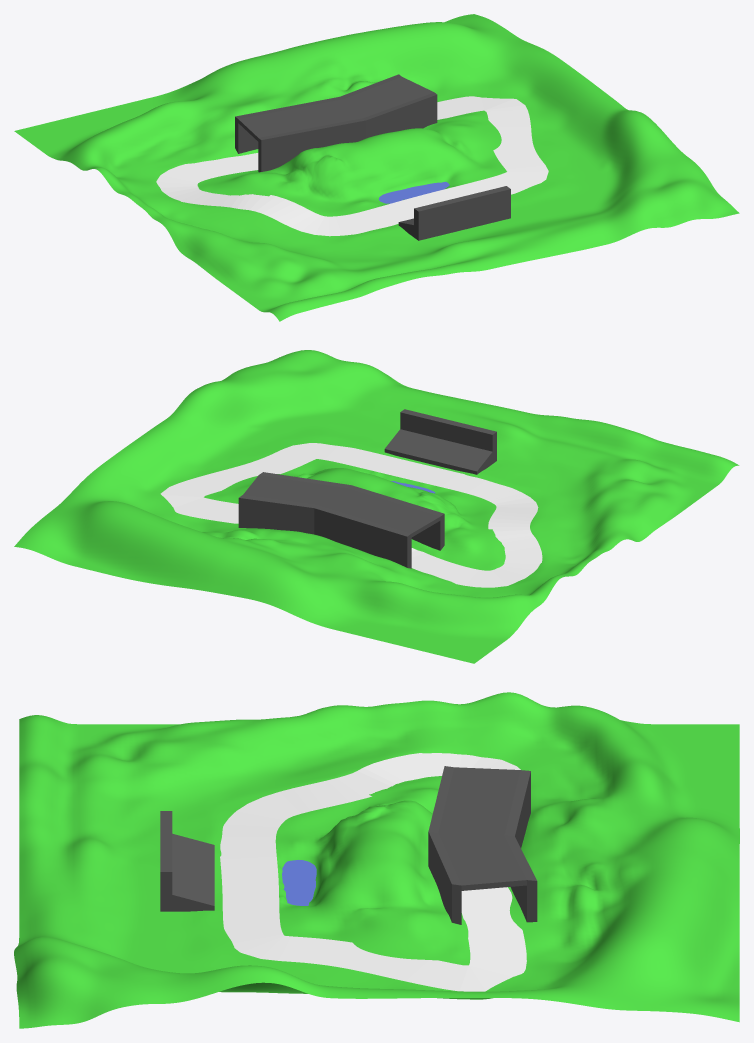
Rendered from leveli.glb.
3 views of the same model, one above another, from view 1: azimuth 30°, elevation 25°; view 2: azimuth 150°, elevation 25°; view 3: azimuth 270°, elevation 25° (orthographic). The views are drawn at different scales.
Visible parts, largest first — view 1: maa1, Rata_ver1, tuneli, Plane.001, Plane.002; view 2: maa1, Rata_ver1, tuneli, Plane.001; view 3: maa1, Rata_ver1, tuneli, Plane.001, Plane.002.
Boxes of the visible parts, <box> form: maa1: <box>14,14,739,321</box>; Rata_ver1: <box>156,96,548,236</box>; tuneli: <box>235,74,437,172</box>; Plane.001: <box>398,186,510,240</box>; Plane.002: <box>378,181,449,203</box>; maa1: <box>14,350,739,663</box>; Rata_ver1: <box>160,443,542,587</box>; tuneli: <box>238,472,444,568</box>; Plane.001: <box>384,409,496,474</box>; maa1: <box>14,692,739,1028</box>; Rata_ver1: <box>220,753,526,991</box>; tuneli: <box>428,766,537,924</box>; Plane.001: <box>160,811,214,911</box>; Plane.002: <box>282,860,316,905</box>.
Bounding box in the file's own units: 520 × 50.72 × 523.
